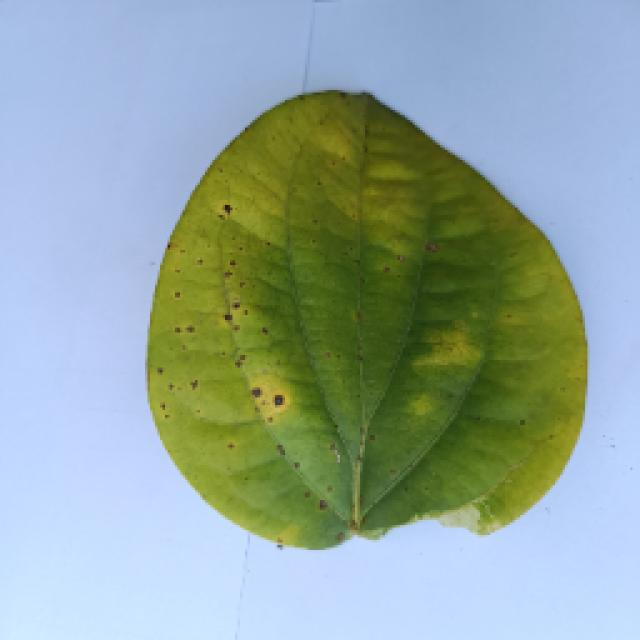slow-decline: (132, 90, 598, 612)
